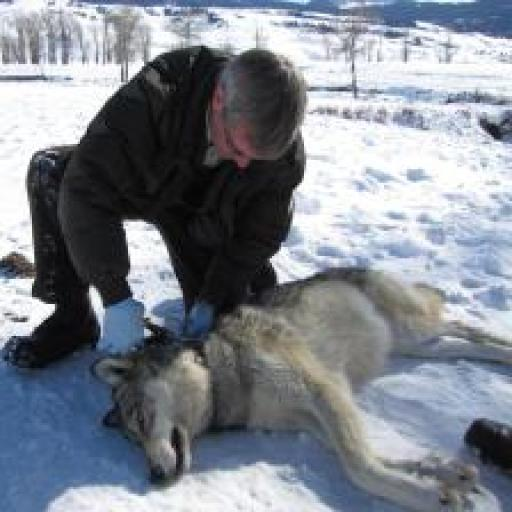wolf: (100, 258, 512, 511)
